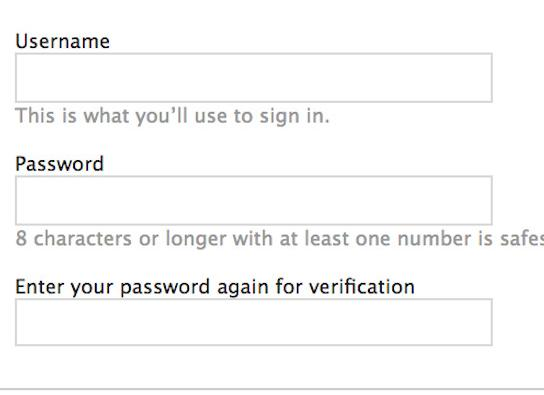field: (13, 295, 495, 350), (11, 172, 498, 226), (12, 52, 499, 104)
field_with_label: (5, 27, 508, 110), (9, 277, 501, 356), (8, 154, 503, 232)
